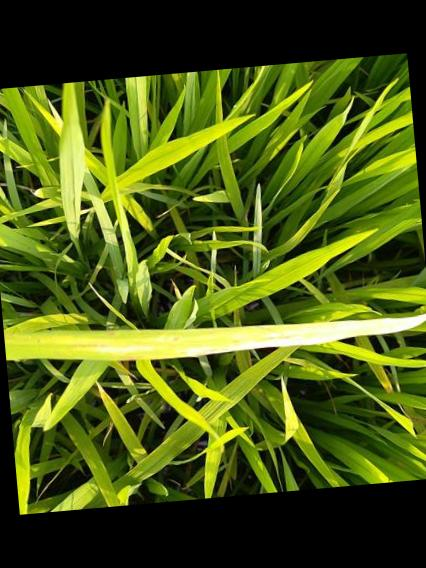Leaf Blight: (165, 314, 426, 356), (4, 343, 116, 360)
